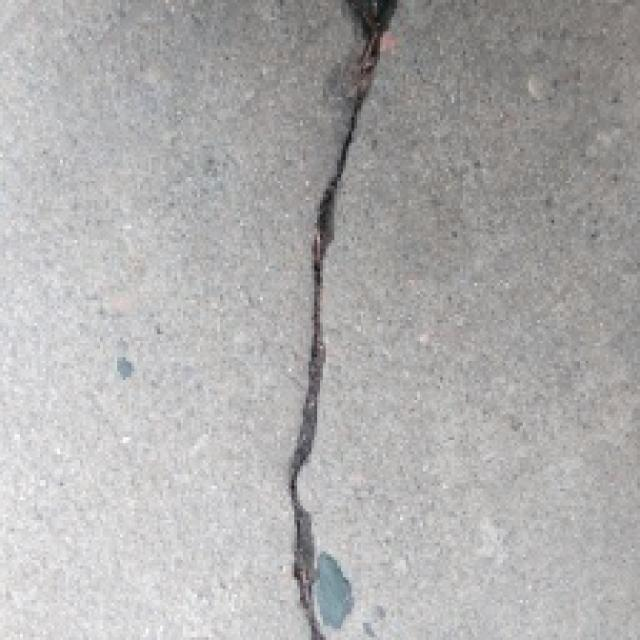SurfaceCrack: (260, 4, 426, 640)
